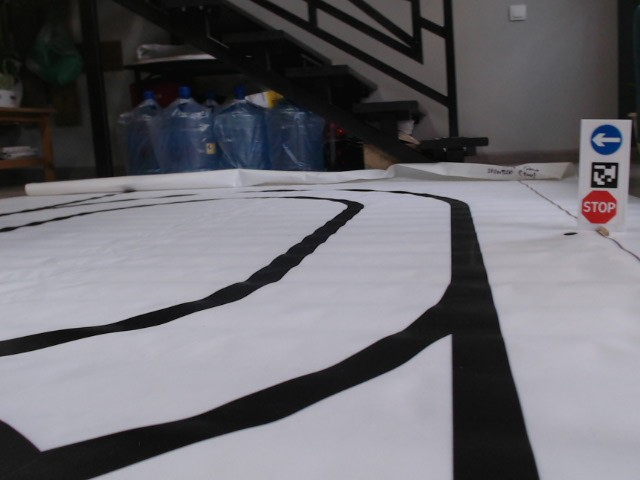Stop: (579, 189, 619, 225)
